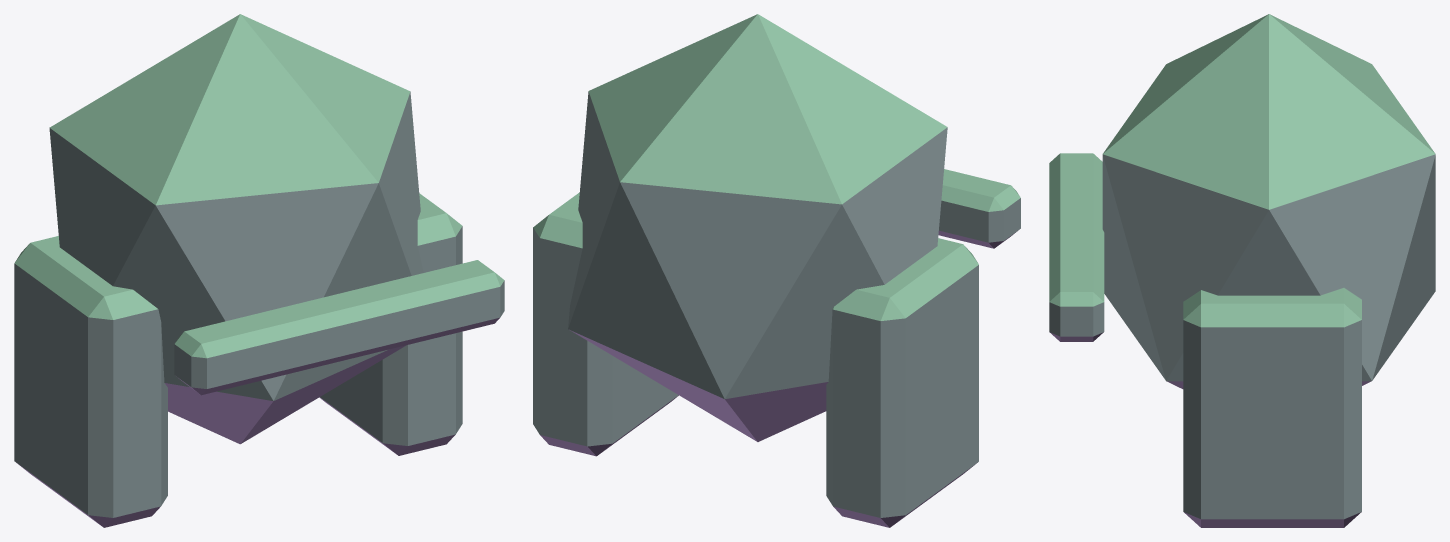
The model's file is npc_module_hood_v01.glb.
The picture shows the model from 3 angles, left to right: view 1: azimuth 30°, elevation 25°; view 2: azimuth 150°, elevation 25°; view 3: azimuth 270°, elevation 25°; orthographic projection. The views are drawn at different scales.
Parts seen in each view (by area): view 1: GEO_npc_module_hood_v01; view 2: GEO_npc_module_hood_v01; view 3: GEO_npc_module_hood_v01.
Boxes of the visible parts, x1,y1,x2,y2 form: GEO_npc_module_hood_v01: (14, 14, 504, 527); GEO_npc_module_hood_v01: (533, 14, 1020, 527); GEO_npc_module_hood_v01: (1049, 14, 1435, 527).
Size of the model in its own units: 1.22 by 1.39 by 1.12.
